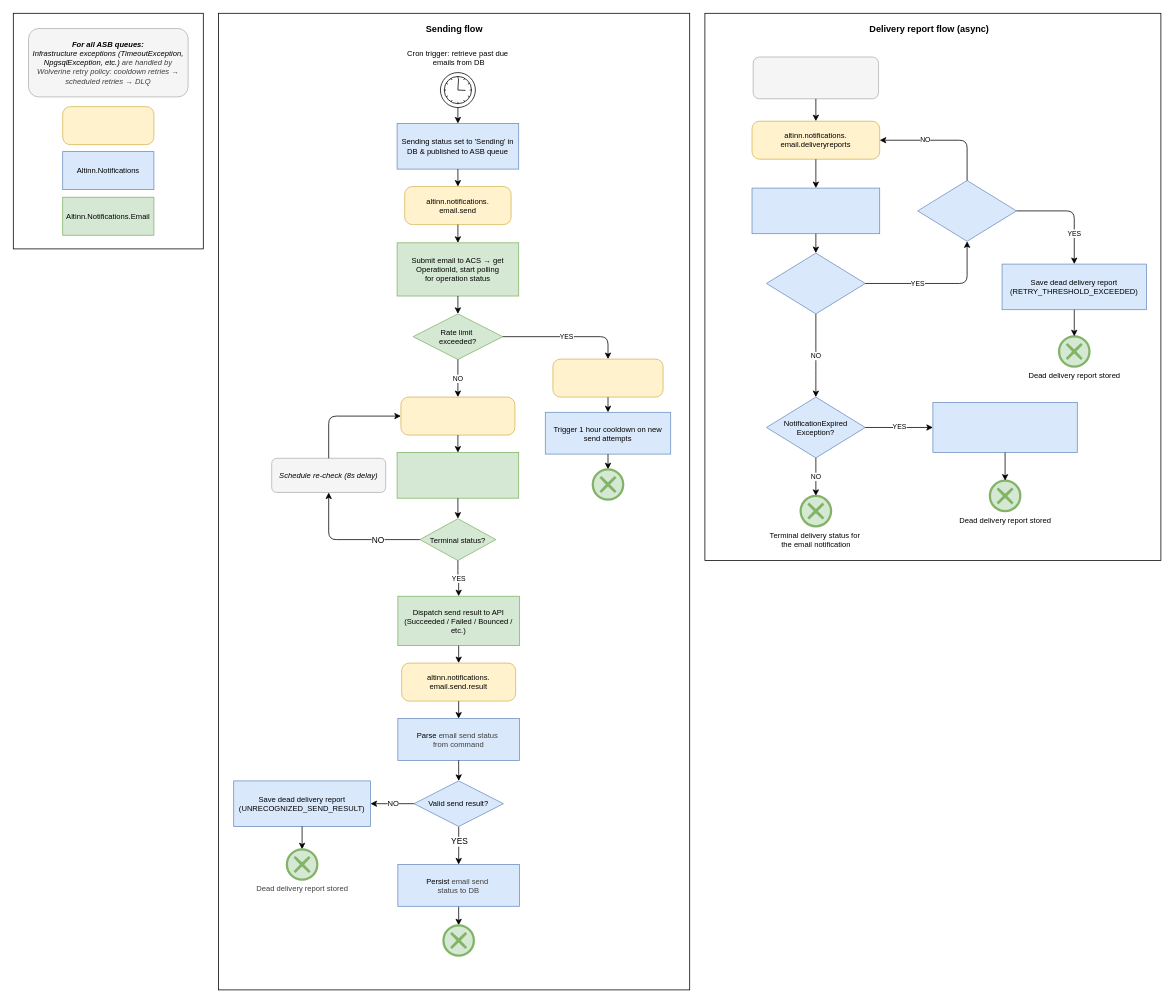
This 1174x1003 diagram has some shape labels left out. The shapes that lost their labels are listed below. From the top down, each one's centre as x and y in pixels, then its label:
At (815,77): "ACS sends delivery report to EventGrid → EventGrid routes event to ASB queue".
At (108,125): "Azure Service Bus queue".
At (815,210): "Attempt to parse and persist email delivery status to DB".
At (966,210): "Retries exhausted?".
At (815,283): "NotificationNotFound Exception?".
At (607,377): "altinn.notifications. email.send.ratelimit".
At (457,415): "altinn.notifications. email.check.send.status".
At (1004,427): "Save dead delivery report (NOTIFICATION_EXPIRED)".
At (457,475): "Poll ACS operation status - check while still 'Sendng'".
At (607,484): "Cooldown activated".
At (458,940): "Intermediate delivery status set for the email notification".
